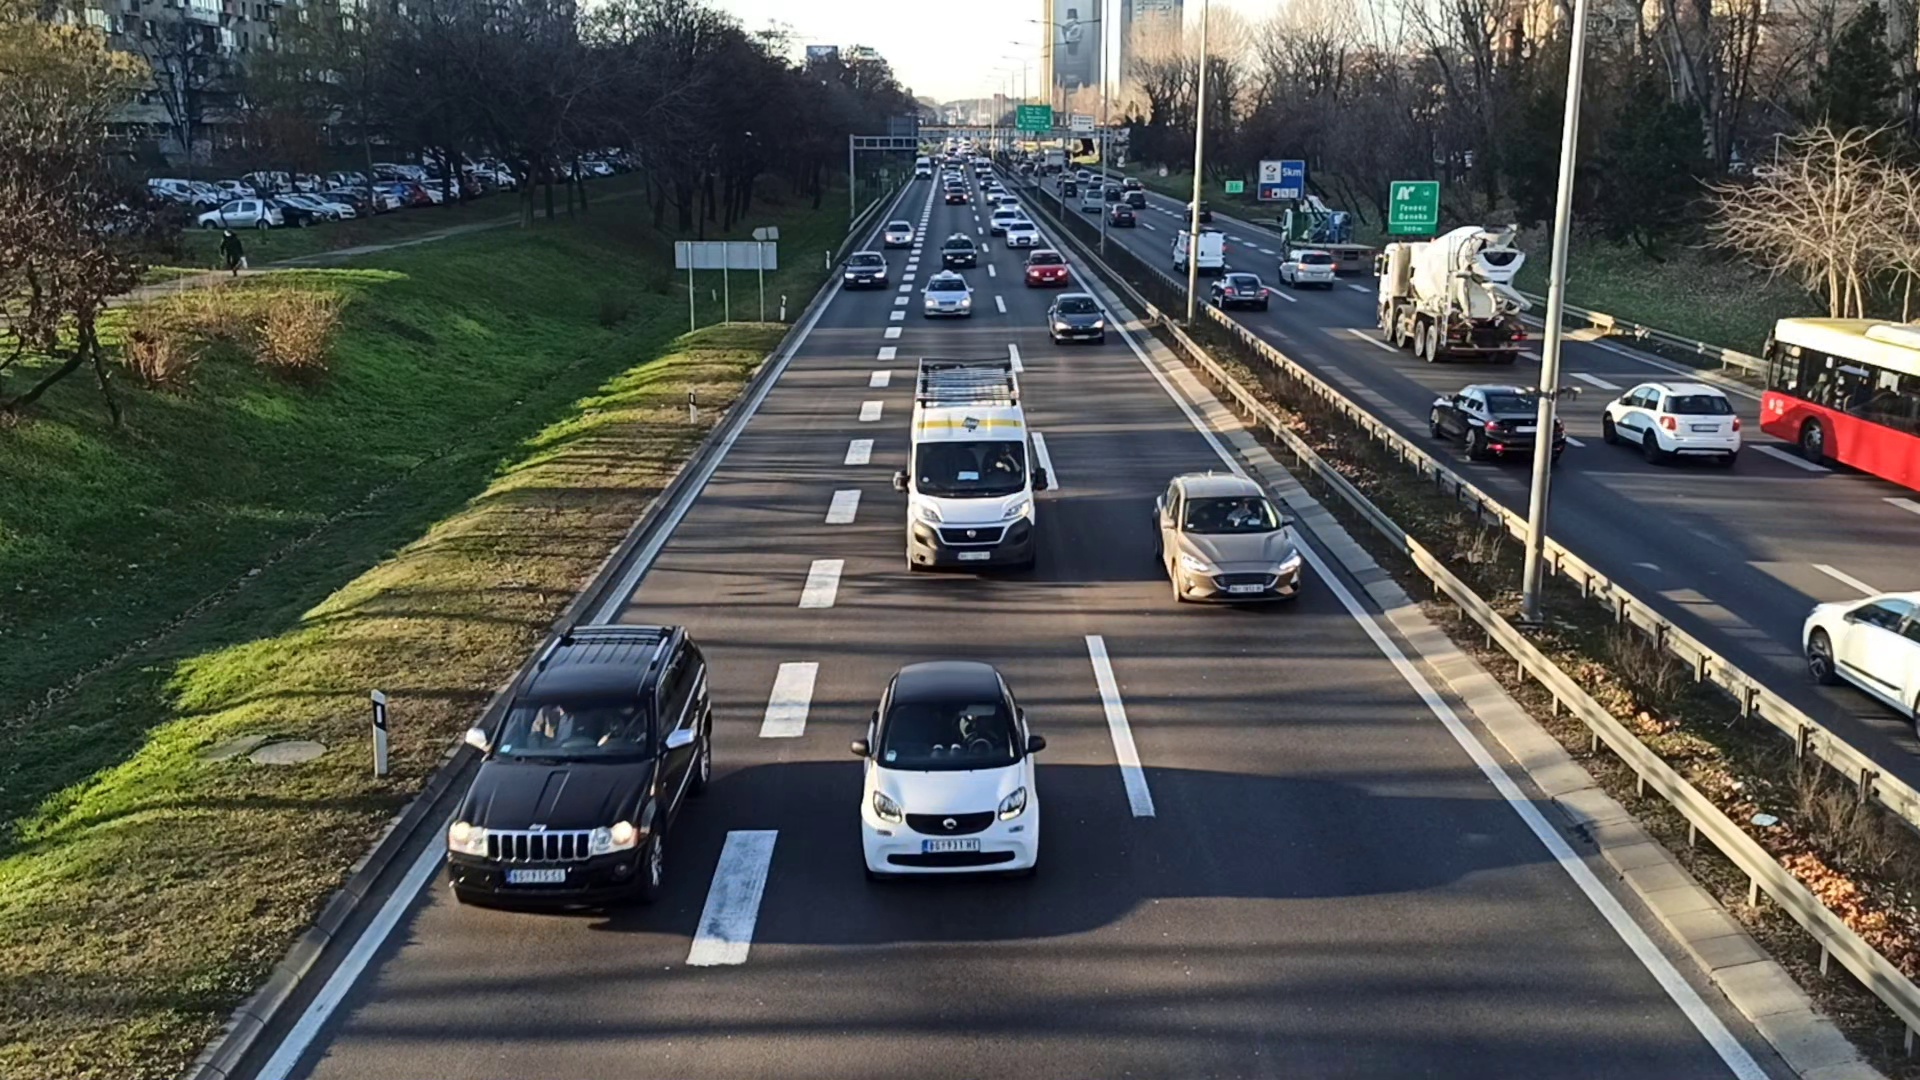bus: (1760, 310, 1920, 491)
car: (446, 622, 712, 915), (862, 658, 1040, 884), (1151, 469, 1300, 611), (1600, 382, 1739, 462), (1429, 386, 1564, 462), (1047, 289, 1105, 348), (924, 269, 975, 315), (1280, 248, 1335, 289), (841, 251, 887, 291), (1212, 272, 1266, 305), (1025, 248, 1065, 284), (942, 232, 976, 266), (884, 218, 913, 247), (1007, 219, 1036, 247)
truck: (1379, 225, 1526, 369), (1276, 198, 1375, 268)
van: (905, 357, 1040, 579)
